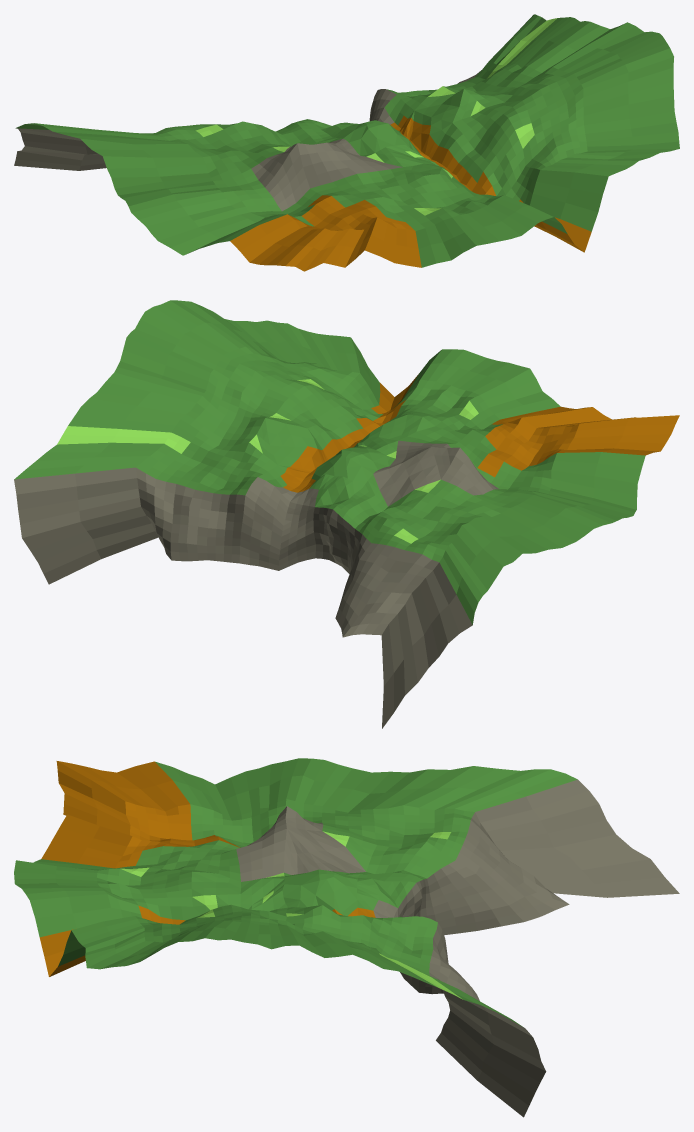
File: maa1.glb
3 views of the same model, one above another, from view 1: azimuth 30°, elevation 25°; view 2: azimuth 150°, elevation 25°; view 3: azimuth 270°, elevation 25° (orthographic). The views are drawn at different scales.
Visible parts, largest first — view 1: Plane; view 2: Plane; view 3: Plane.
Part boxes in pixels (bbox=[...]): Plane: bbox=[14, 14, 679, 271]; Plane: bbox=[14, 300, 679, 728]; Plane: bbox=[14, 758, 679, 1117].
Bounding box in the file's own units: 453 × 152 × 476.
